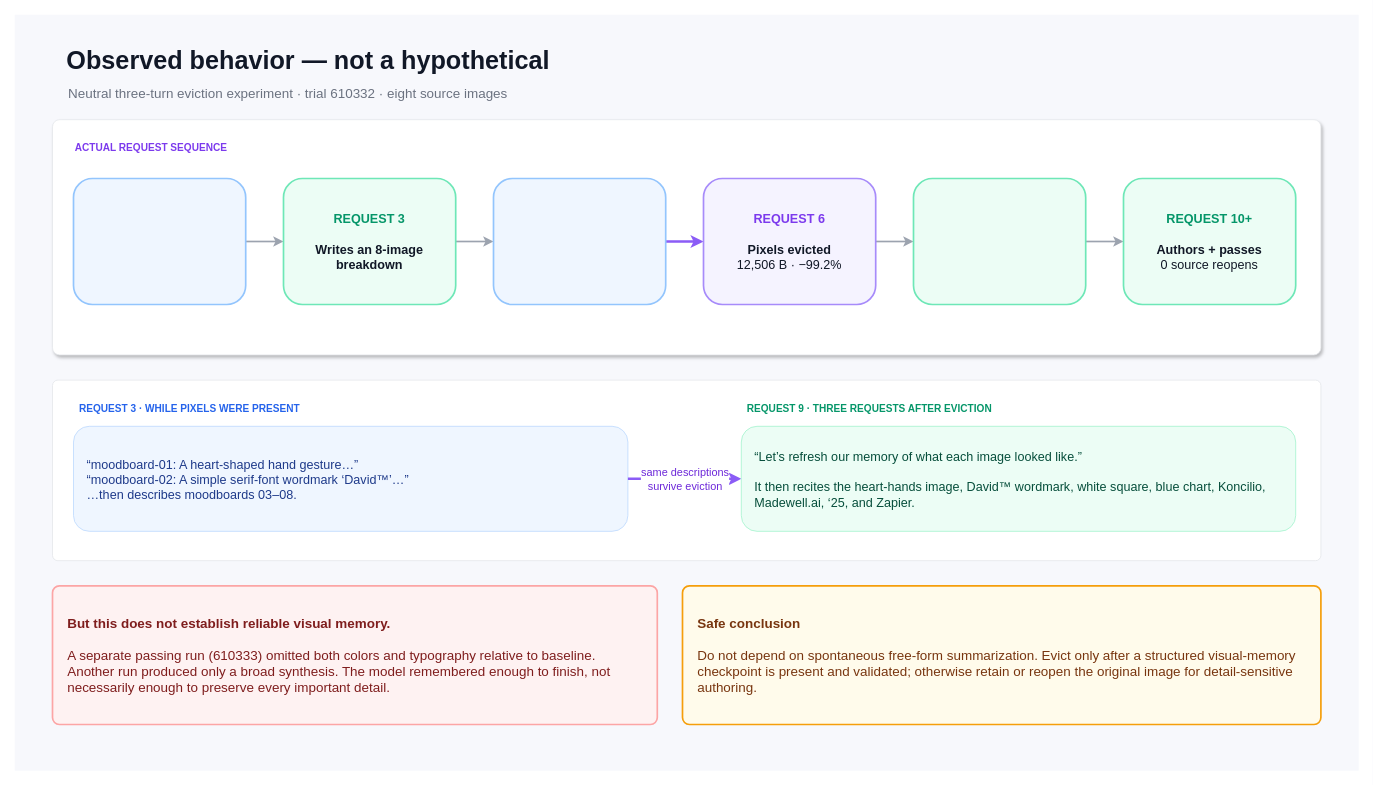
The diagram is 1373 pixels wide and 785 high, and some of its shapes have lost their labels. Each missing label, with the centre of its shape:
REQUEST 2 view_files 8 source images: (x=159, y=241)
REQUEST 9 Recites all 8 from prior text: (x=999, y=241)
REQUESTS 3–5 Pixels present 1,616,365 B: (x=579, y=241)
